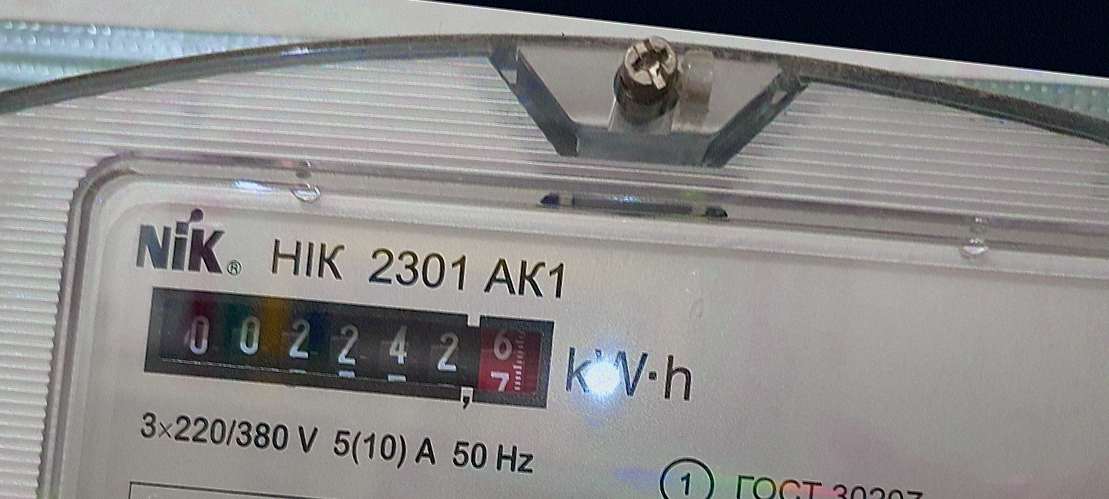0: (233, 311, 263, 356), (285, 315, 313, 360), (184, 311, 211, 357)
2: (432, 328, 461, 374), (333, 321, 361, 367)
4: (383, 321, 411, 367)
6: (488, 326, 515, 362)
7: (485, 368, 510, 393)
screen: (130, 264, 572, 434)
